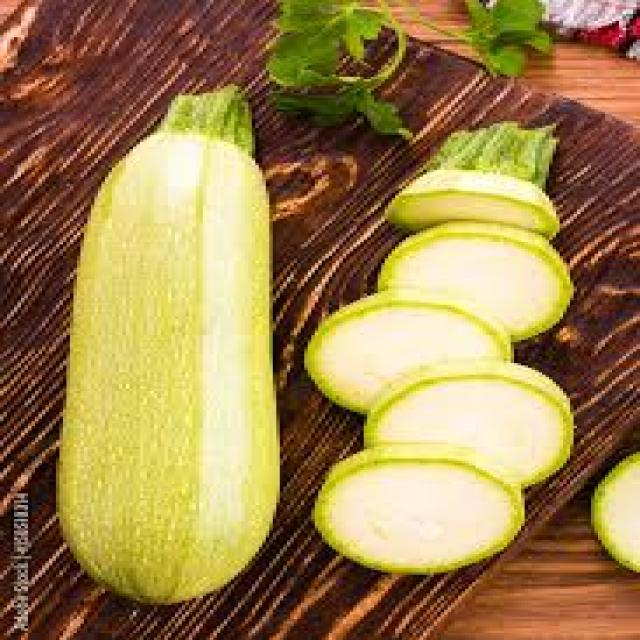vegetable marrow: (43, 39, 302, 614), (306, 416, 571, 591), (360, 344, 636, 504), (362, 208, 599, 372), (388, 62, 585, 244), (304, 287, 544, 408)
